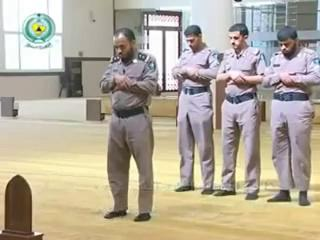qiyam: (100, 28, 160, 222), (263, 26, 320, 206), (217, 24, 266, 201), (172, 25, 220, 195)
